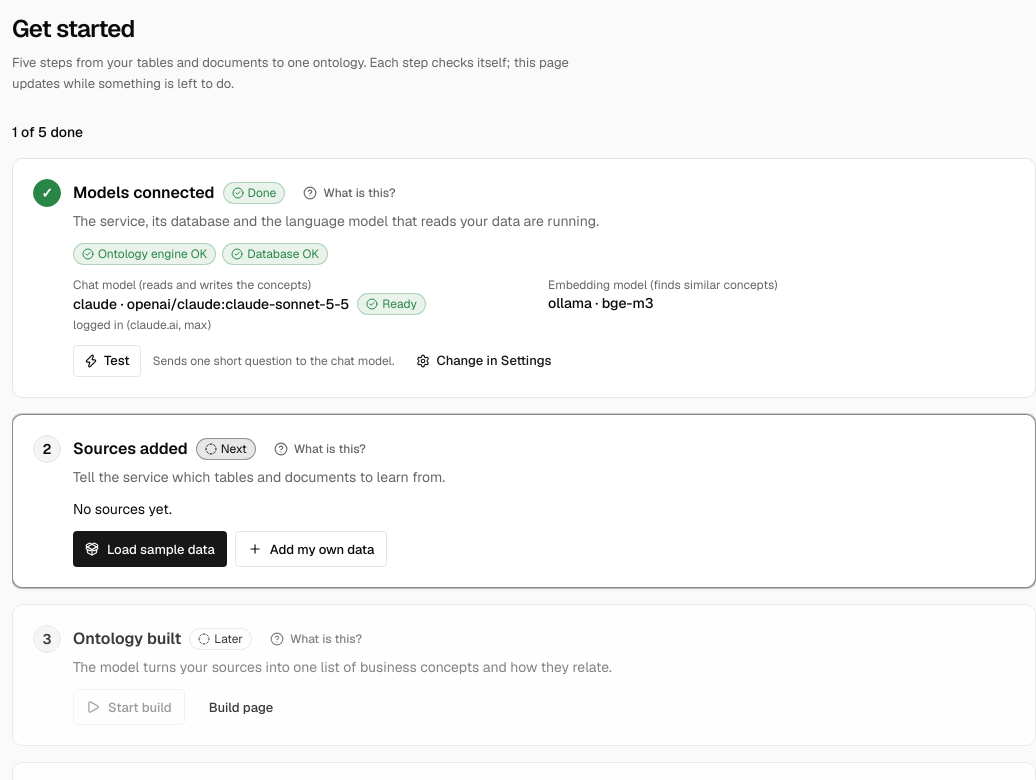
Home minors › says a test is already running on a 409 test_in_progress
Click the button "Test".
click(107, 362)  # box [73, 346, 141, 378]
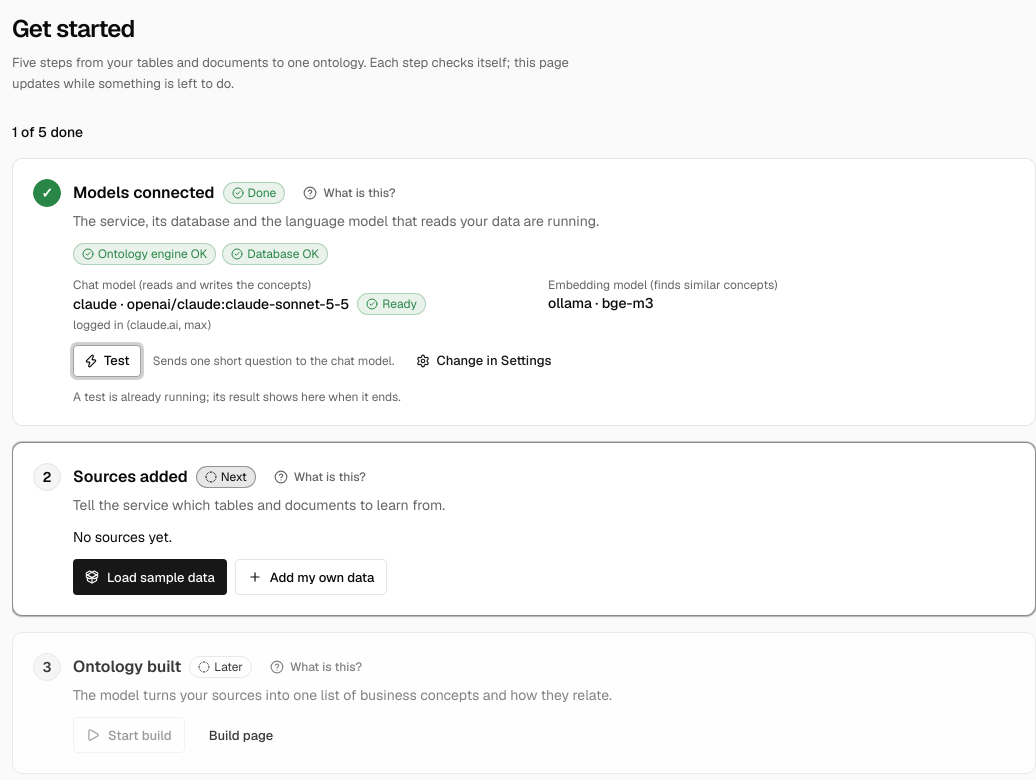
Expected: the text "A test is already running; its result shows here when it ends." is shown, [73, 390, 401, 406]
